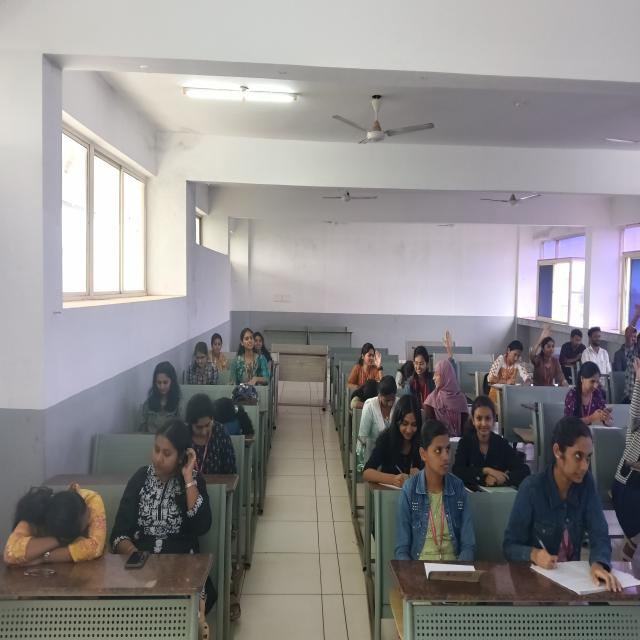Hand Rising: (522, 305, 576, 394), (396, 326, 460, 394), (332, 336, 385, 379), (622, 295, 640, 406)
Sleeping: (25, 473, 115, 582), (211, 384, 269, 458)
Using Phone: (104, 422, 204, 592), (558, 357, 626, 434), (187, 400, 246, 487), (135, 349, 185, 423)
Writing: (521, 417, 622, 592), (362, 393, 430, 494), (477, 313, 536, 390)
